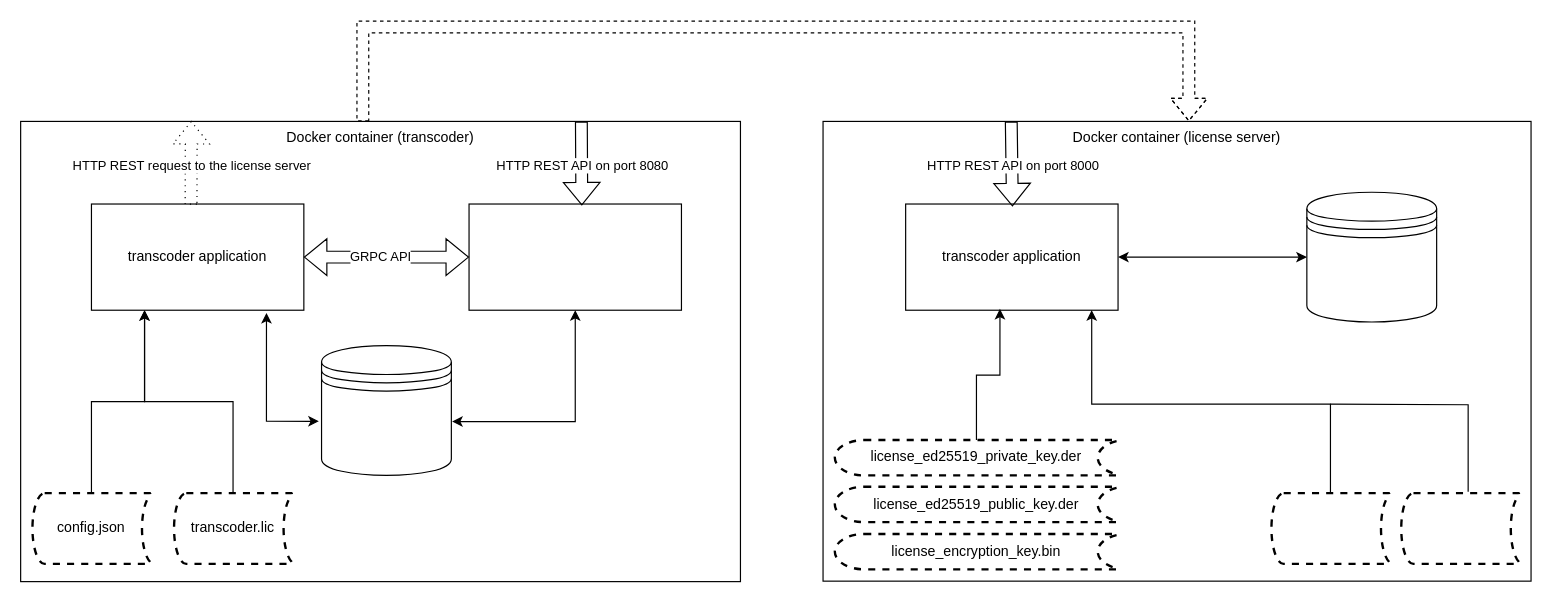
This 1552x602 diagram has some shape labels left out. Each missing label, with the centre of its shape:
server.crt (SSL): pixel 1459 528
server.key (SSL): pixel 1330 528
sqlite3 databse (events): pixel 385 409
sqlite3 databse (sessions): pixel 1371 256
transcoder_api application: pixel 574 256
